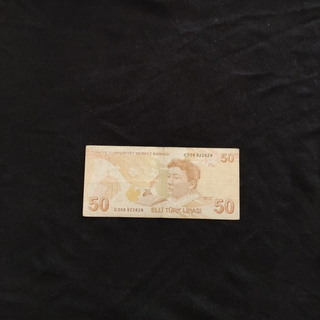50TLBack: (82, 144, 240, 220)
